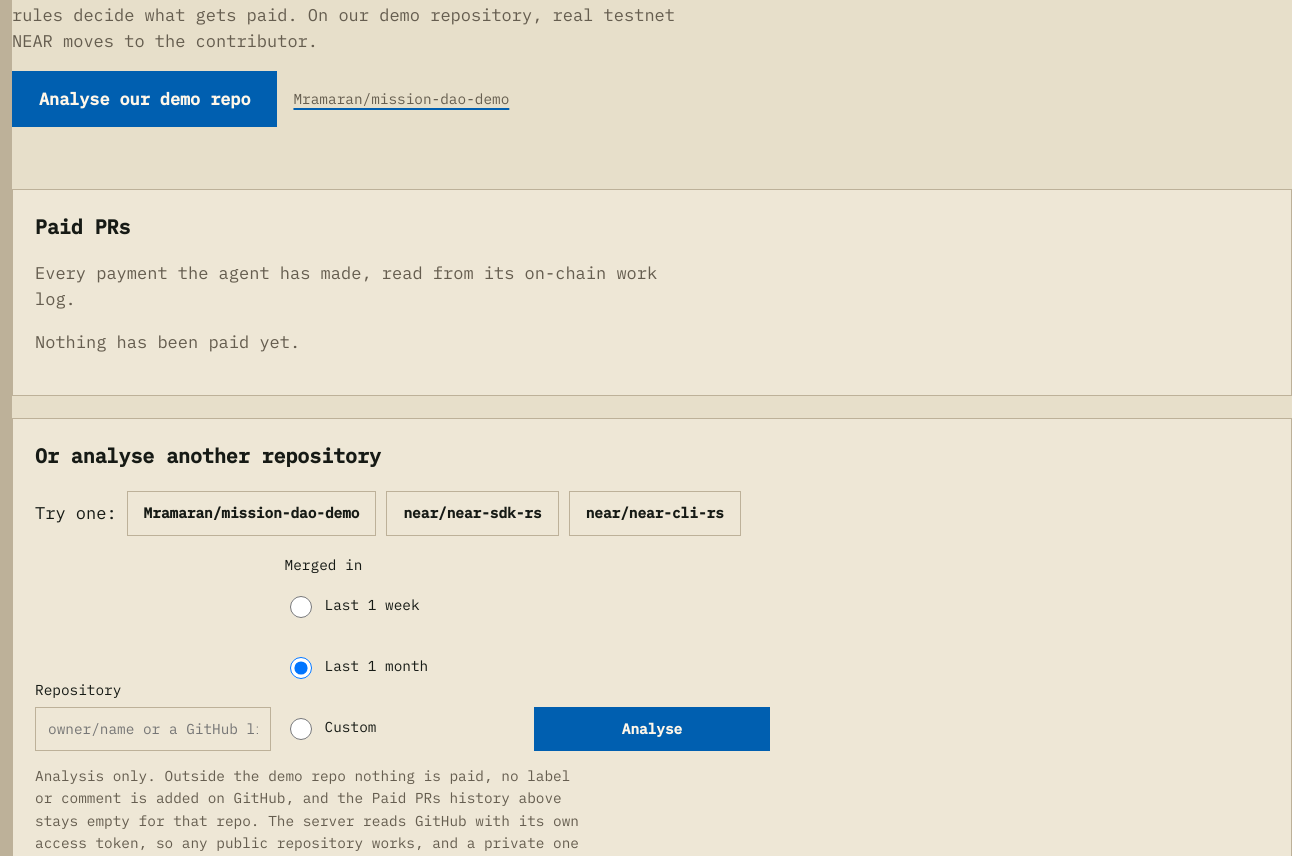
AnalyseRepo › a wallet connected from the header enables Run payments without a reload
(page scrolled)
In the field labelled "Repository": (153, 729) [35,707,271,751], type "o/r"
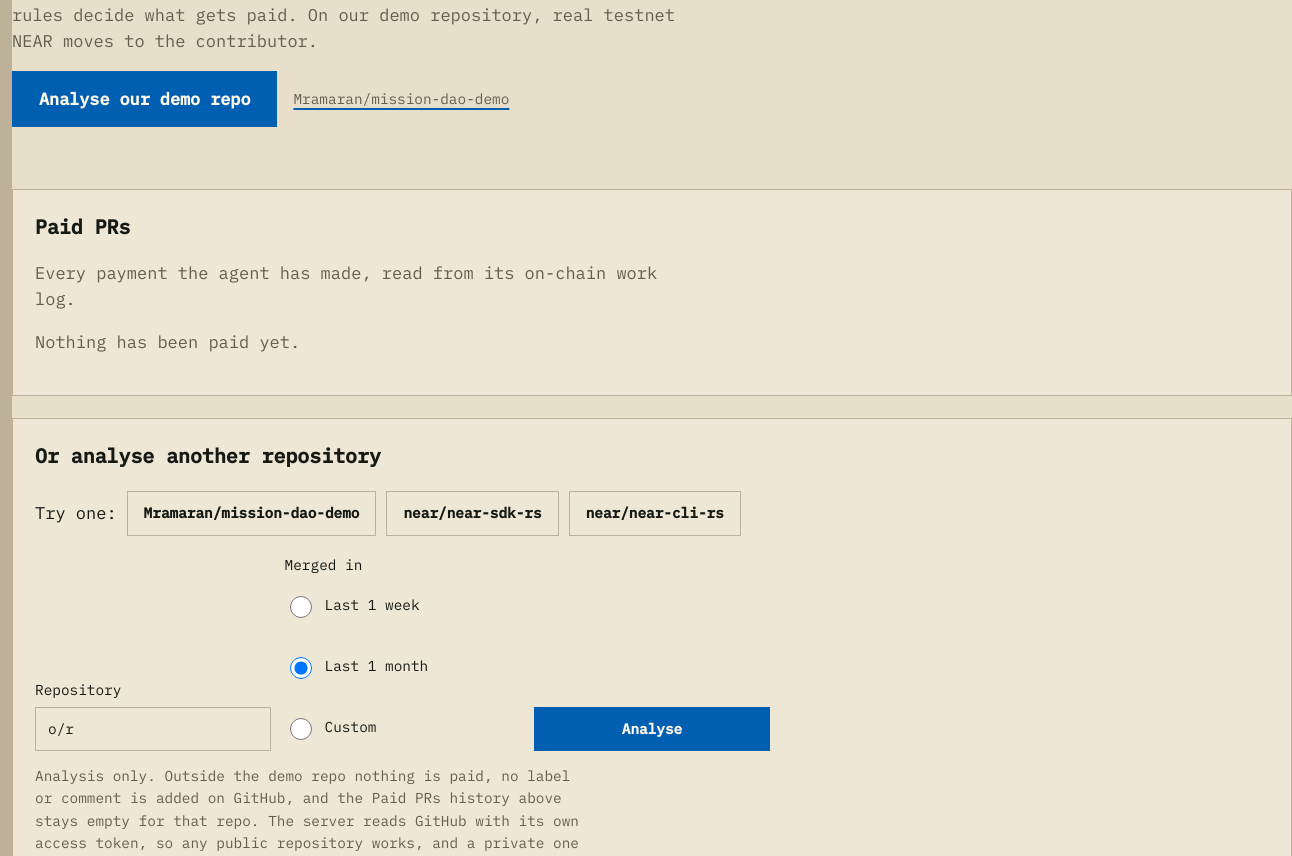
Click the button "Analyse": (652, 729) [534,707,770,751]
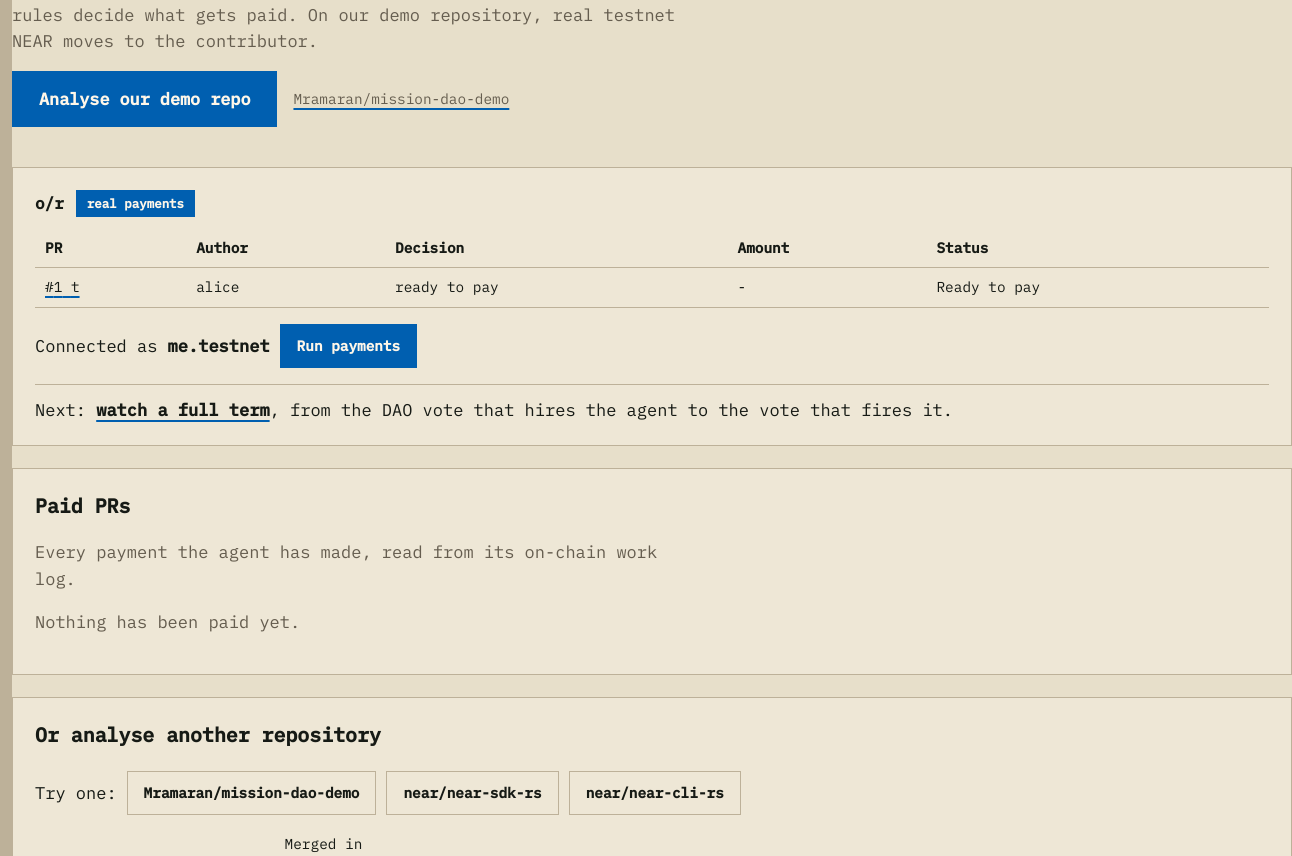
Check: the text "Ready to pay" is shown, box [926,268,1269,307]
Check: the button "Run payments" is shown, box [280,324,417,368]
